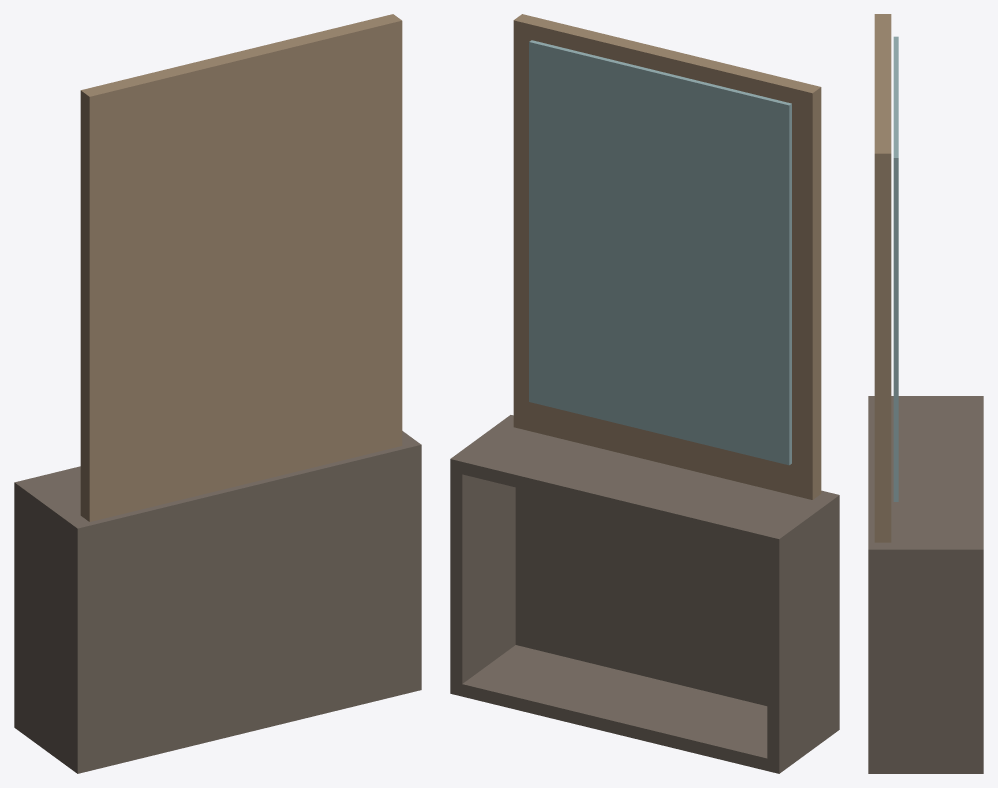
Rendered from barber_mirror_station.glb.
3 views of the same model, side by side, from view 1: azimuth 30°, elevation 25°; view 2: azimuth 150°, elevation 25°; view 3: azimuth 270°, elevation 25° (orthographic). The views are drawn at different scales.
Visible parts, largest first — view 1: body; view 2: body; view 3: body.
Boxes of the visible parts, x1,y1,x2,y2 form: body: (14,14,421,773); body: (450,14,839,773); body: (868,14,983,773).
Size of the model in its own units: 1.1 by 2.05 by 0.35.
